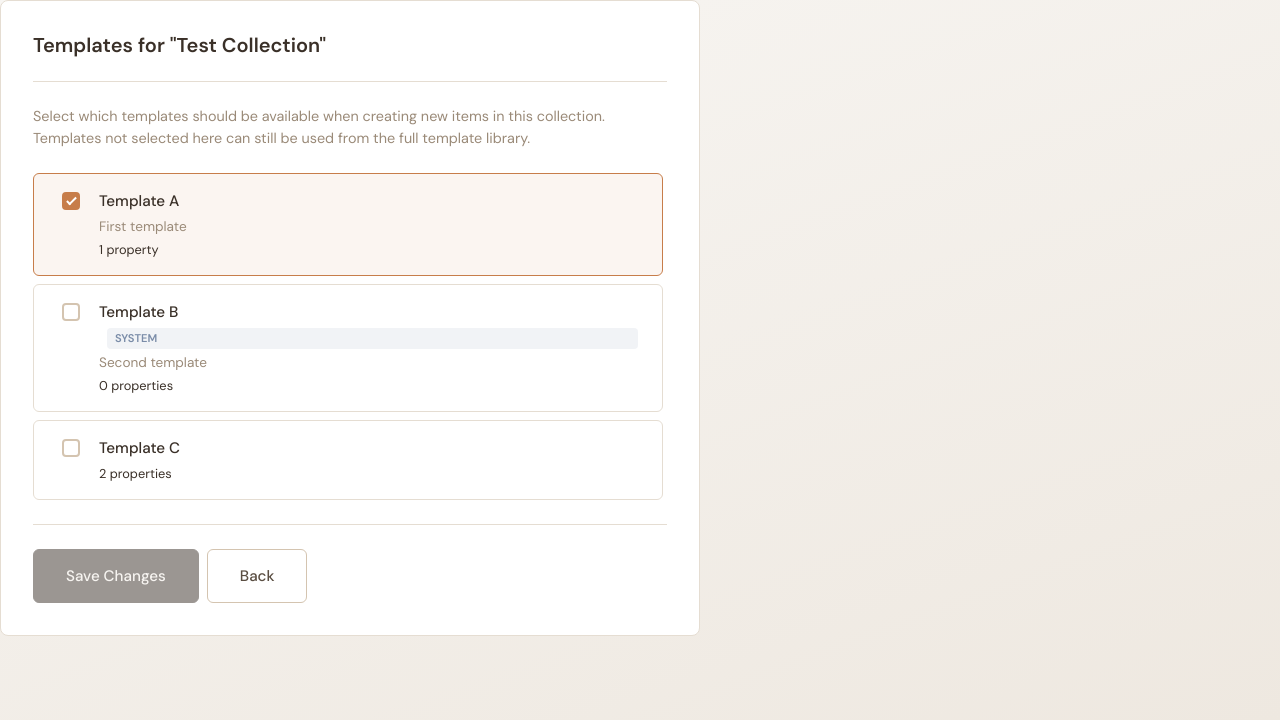
CollectionTemplateEditor › disables checkboxes during save
The width and height of the screenshot is (1280, 720).
Expected: the text "Template B" is shown, [99,302,178,322]
Click the checkbox labelled "Template B System Second template 0 properties" at (71, 312), box [62,303,80,321]
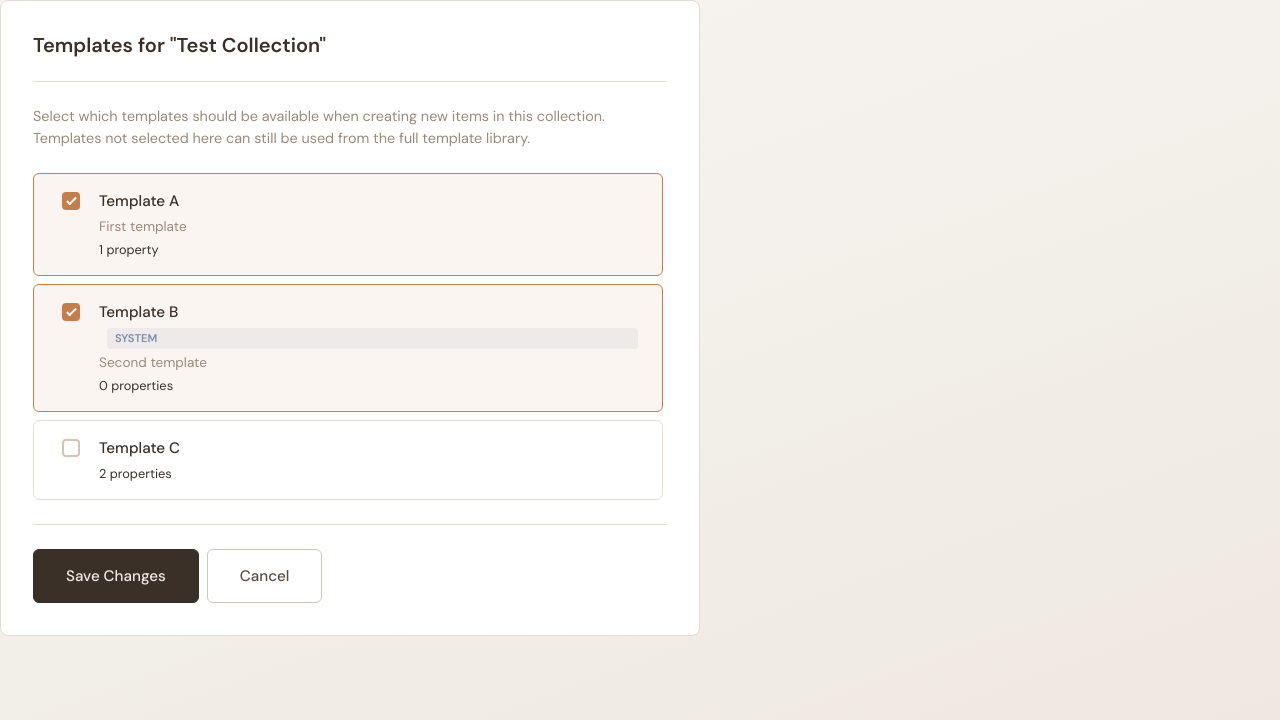
Click the button "Save Changes" at (116, 576), box [33,549,199,603]
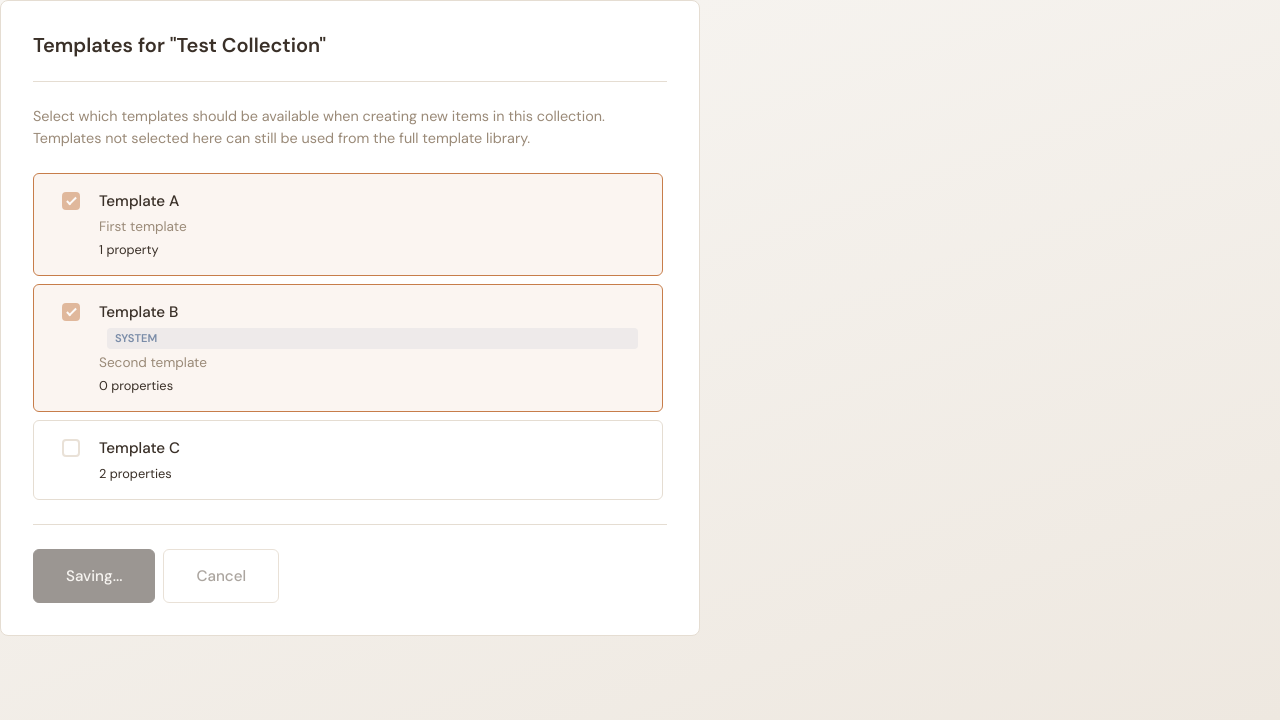
Expected: the checkbox labelled "Template A First template 1 property" is disabled, [62,192,80,210]
Expected: the checkbox labelled "Template B System Second template 0 properties" is disabled, [62,303,80,321]
Expected: the checkbox labelled "Template C 2 properties" is disabled, [62,439,80,457]
